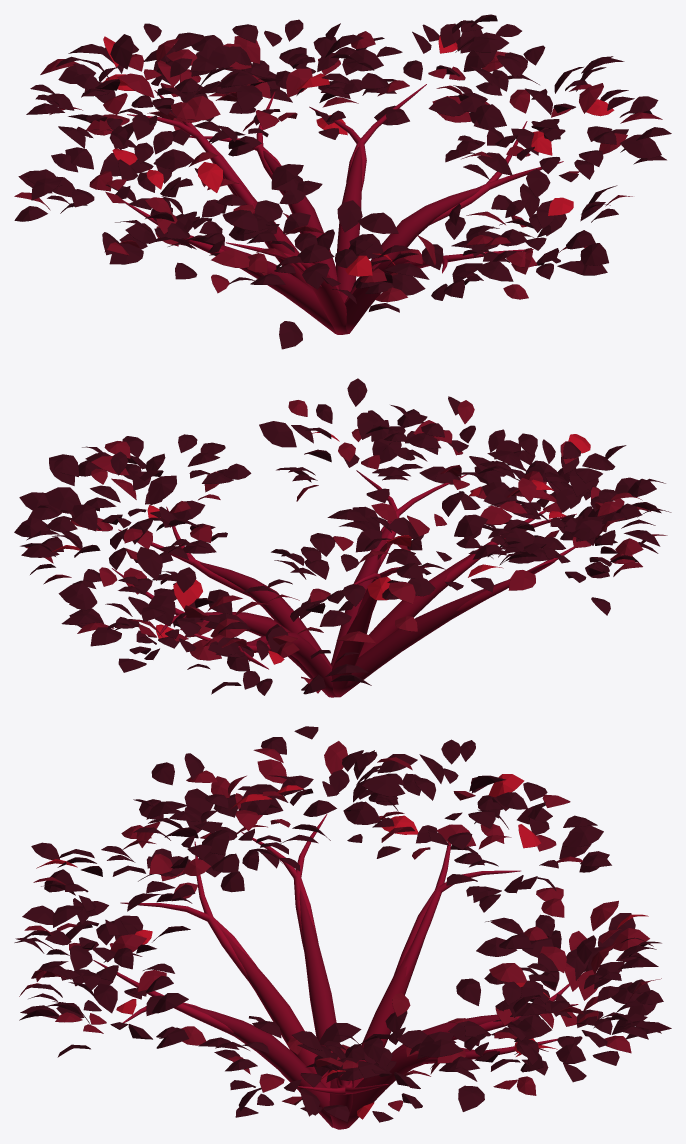
Rendered from SM_RV_Bough.fbx.
3 renders of one model, top to bottom at view 1: azimuth 30°, elevation 25°; view 2: azimuth 150°, elevation 25°; view 3: azimuth 270°, elevation 25°, orthographic. The views are drawn at different scales.
Visible parts, largest first — view 1: SM_RV_Bough; view 2: SM_RV_Bough; view 3: SM_RV_Bough.
Part boxes in pixels (x1,y1,x2,y2): SM_RV_Bough: (14,14,671,349); SM_RV_Bough: (14,378,671,697); SM_RV_Bough: (14,726,671,1129).
Size of the model in its own units: 1062 by 1211 by 503.
